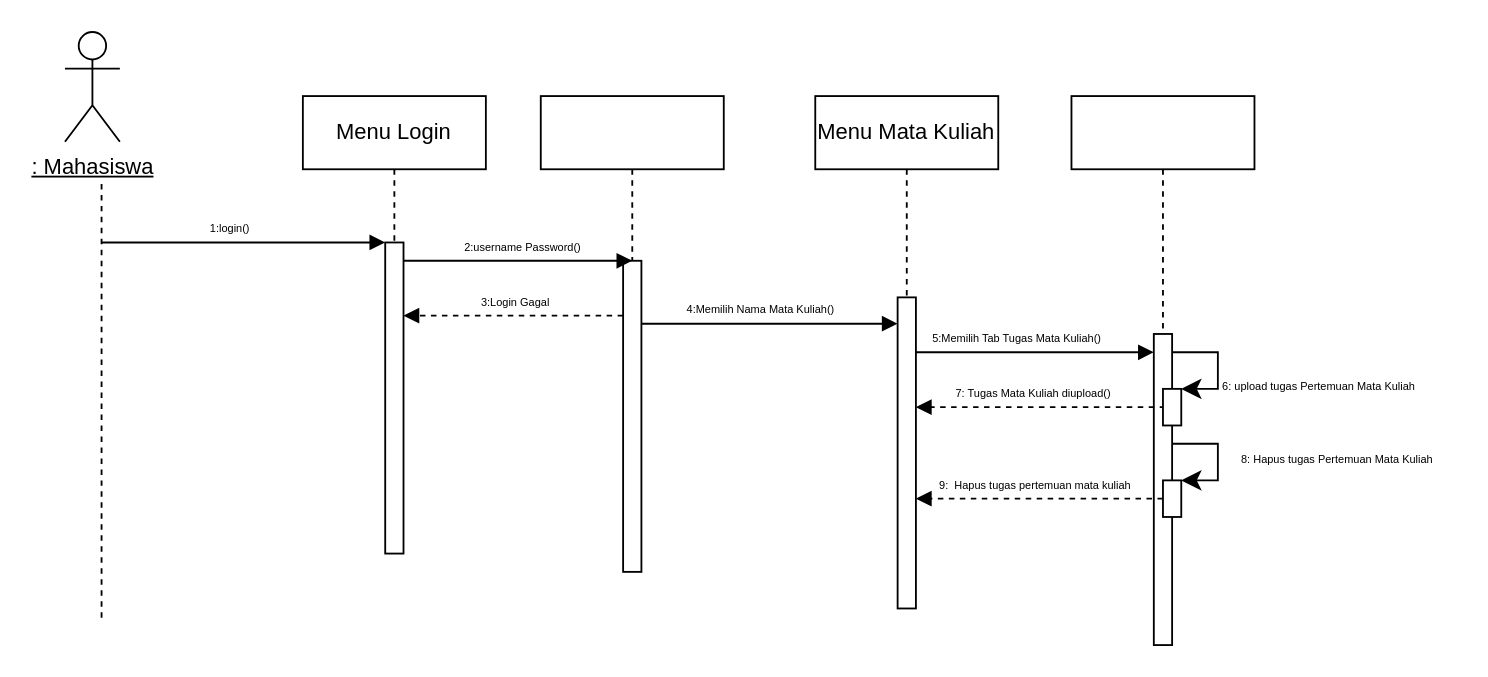
Image size: 1488x677. Some labels were removed from this diagram. The shapes that lost their labels are listed below. From the top down, each one's box as (x1, y1, x2, y2) in pixels, then its label:
(1070, 94, 1254, 425): Menu Pertemuan Mata Kuliah
(539, 94, 724, 554): Menu Daftar Mata Kuliah
